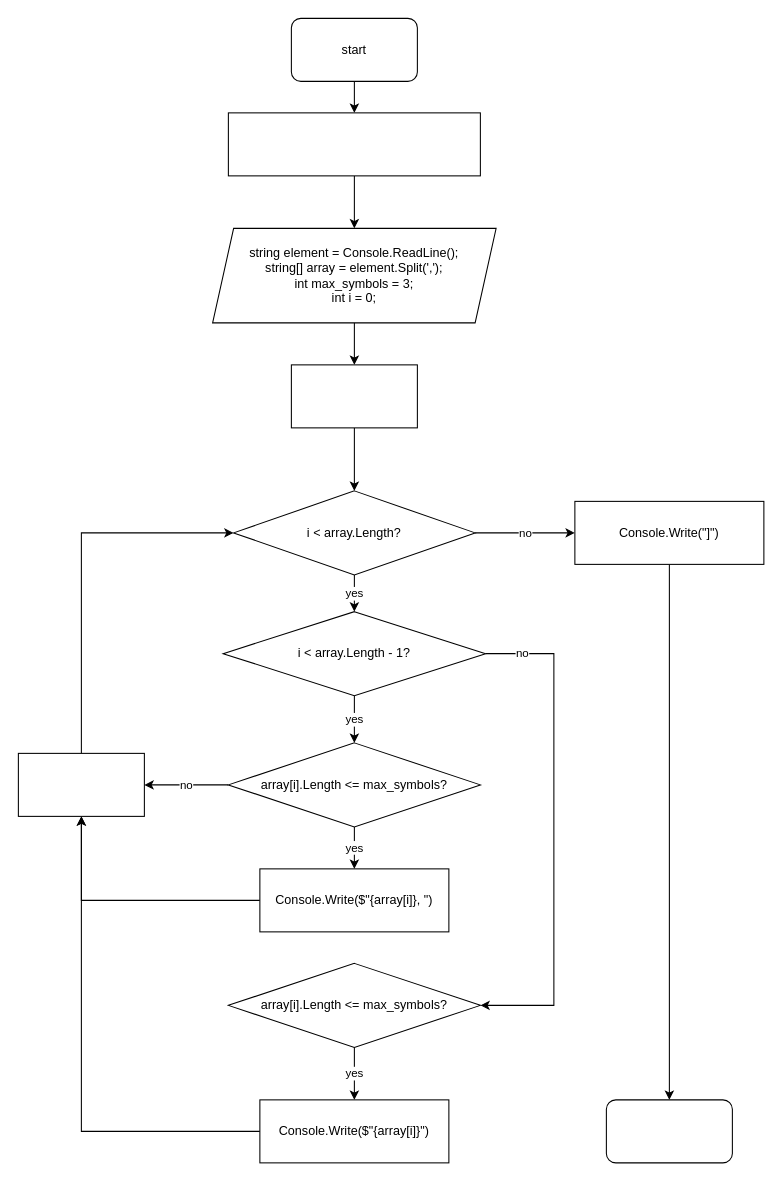
Image size: 782x1181. Some labels were removed from this diagram. The shapes that lost their labels are listed below. From the top down, each one's centre as x and y in pixels, then its label:
(x=353, y=144): Console.WriteLine("Введите элементы массива через запятую");
(x=353, y=396): Console.Write("[");
(x=80, y=784): i++;
(x=668, y=1131): end
